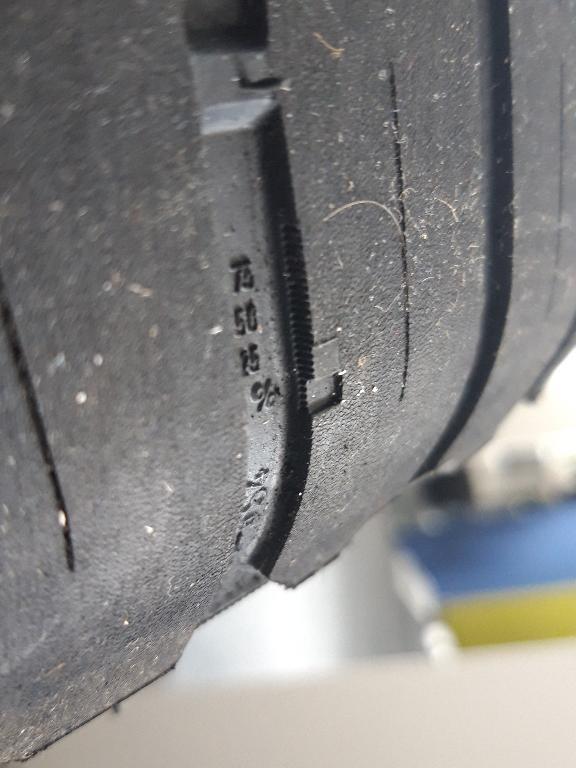temoin:25: (285, 328, 353, 424)
